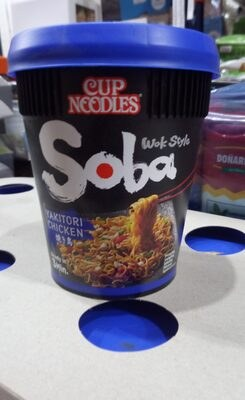SOBA Cup Yakitori Poulet: (12, 20, 233, 380)
